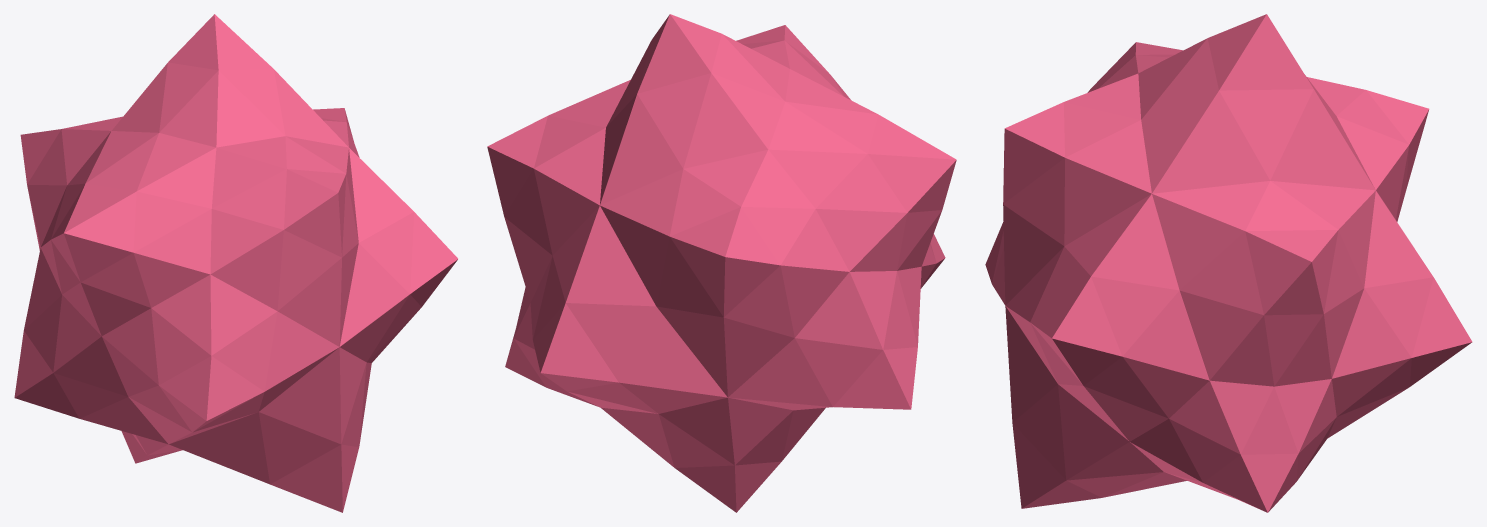
Rendered from konpeito.fbx.
The picture shows the model from 3 angles, left to right: view 1: azimuth 30°, elevation 25°; view 2: azimuth 150°, elevation 25°; view 3: azimuth 270°, elevation 25°; orthographic projection. The views are drawn at different scales.
Visible parts, largest first — view 1: konpeito; view 2: konpeito; view 3: konpeito.
Boxes of the visible parts, x1,y1,x2,y2 form: konpeito: (14,14,457,512); konpeito: (487,14,956,512); konpeito: (985,14,1472,512).
Size of the model in its own units: 32.13 by 36.99 by 32.7.
